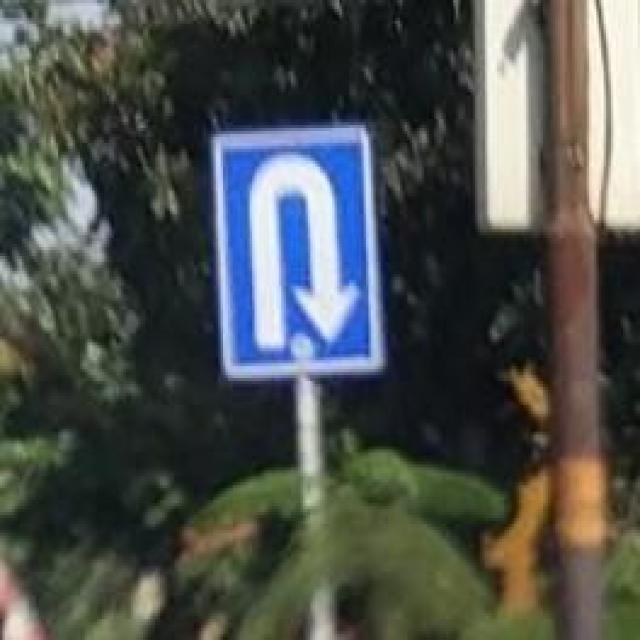traffic sign: (213, 131, 388, 378)
